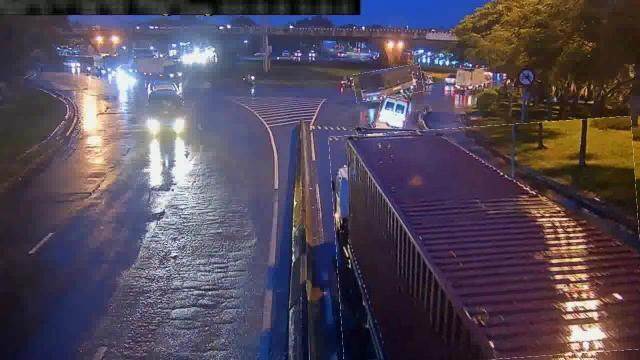Bus: (378, 96, 408, 128)
Truck: (332, 121, 640, 359), (353, 66, 423, 100), (457, 68, 489, 90)
